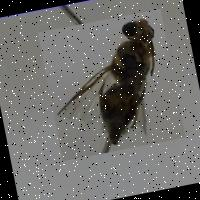Oriental-fruit-fly: (37, 9, 185, 161)
